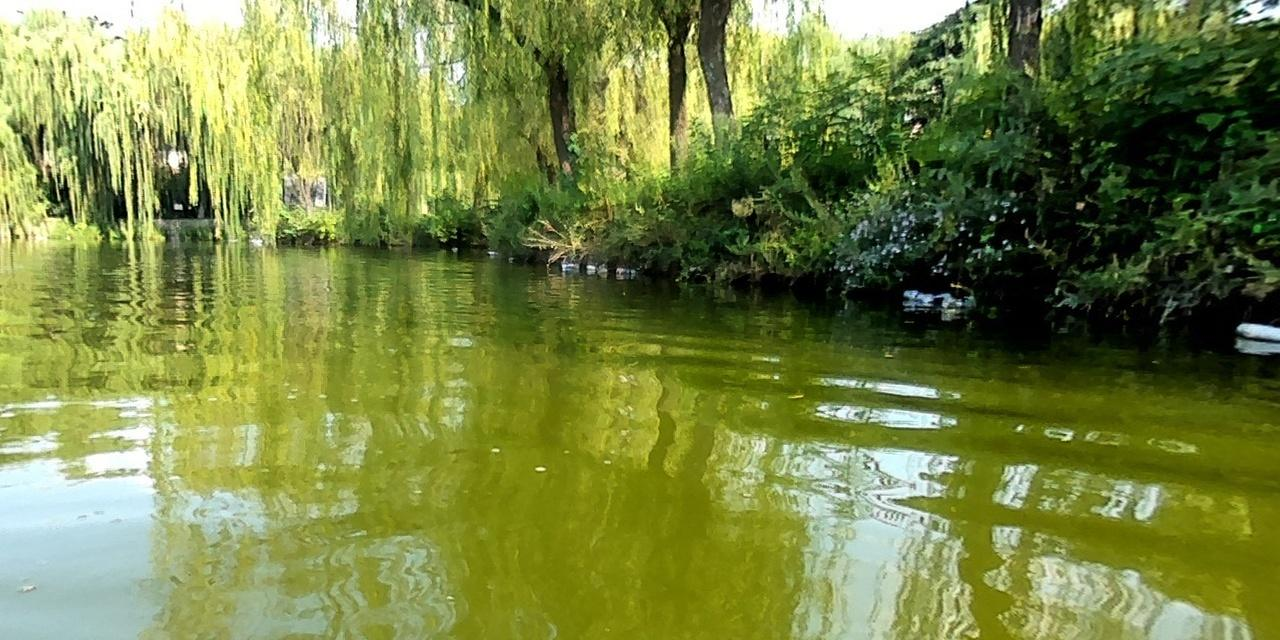bottle: (1236, 320, 1279, 342), (613, 267, 634, 278)
